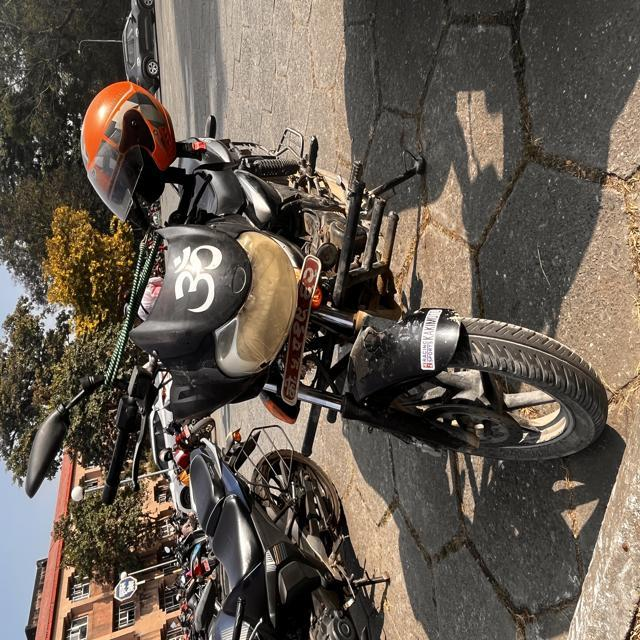license_plate: (263, 219, 347, 445)
